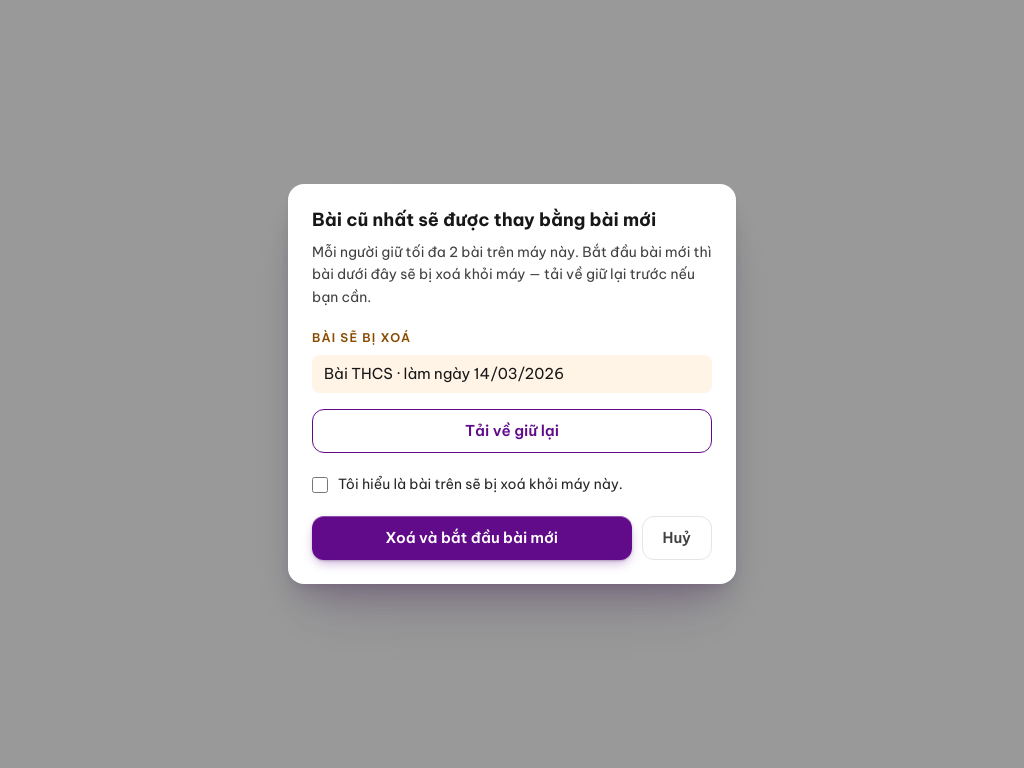
Scenario: 🔴 hộp thoại — ba thứ bắt buộc › bấm tải về thì báo lại kết quả cho người dùng biết
Click the button "Tải về giữ lại" at (512, 431), box [312,409,712,453]
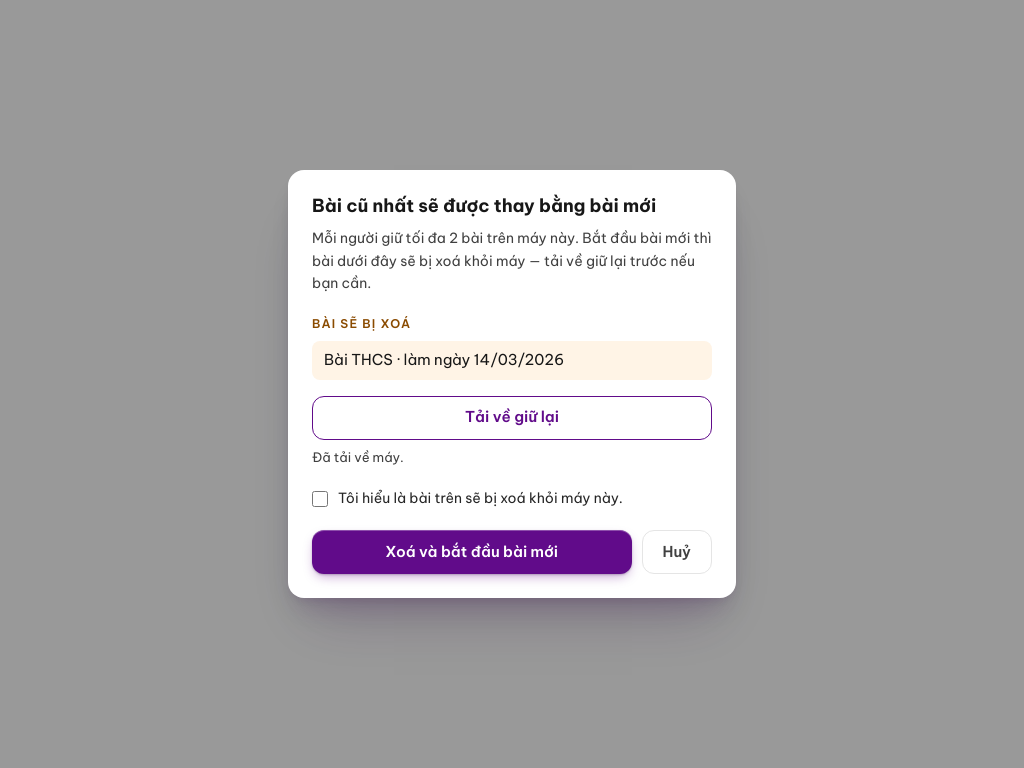
Result: the message "Đã tải về máy." is shown at [312,449,404,465]
